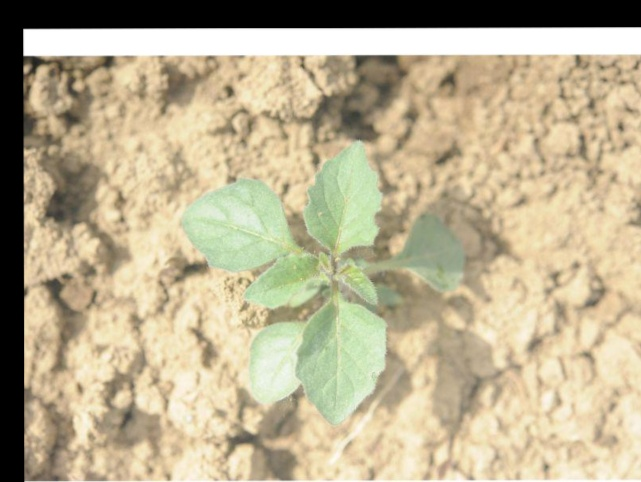nightshade: (179, 137, 466, 425)
